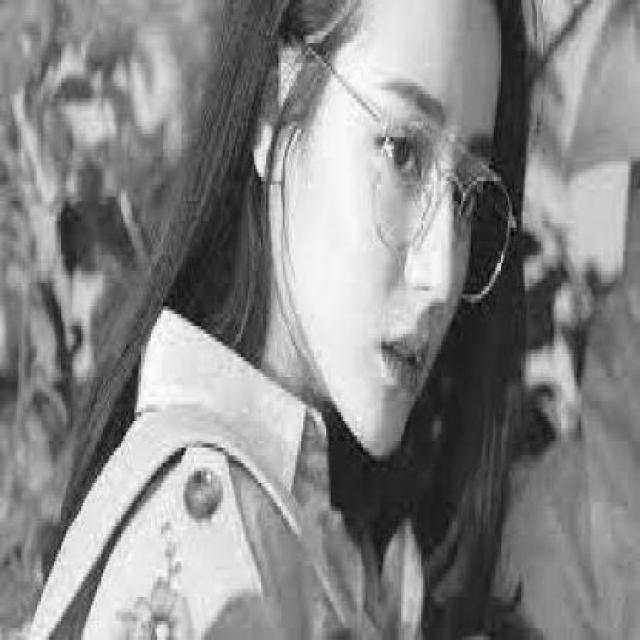Glasses: (282, 49, 524, 307)
